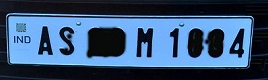1: (168, 27, 182, 59)
4: (227, 27, 246, 58)
A: (37, 24, 55, 56)
M: (136, 27, 154, 58)
S: (57, 26, 76, 56)
